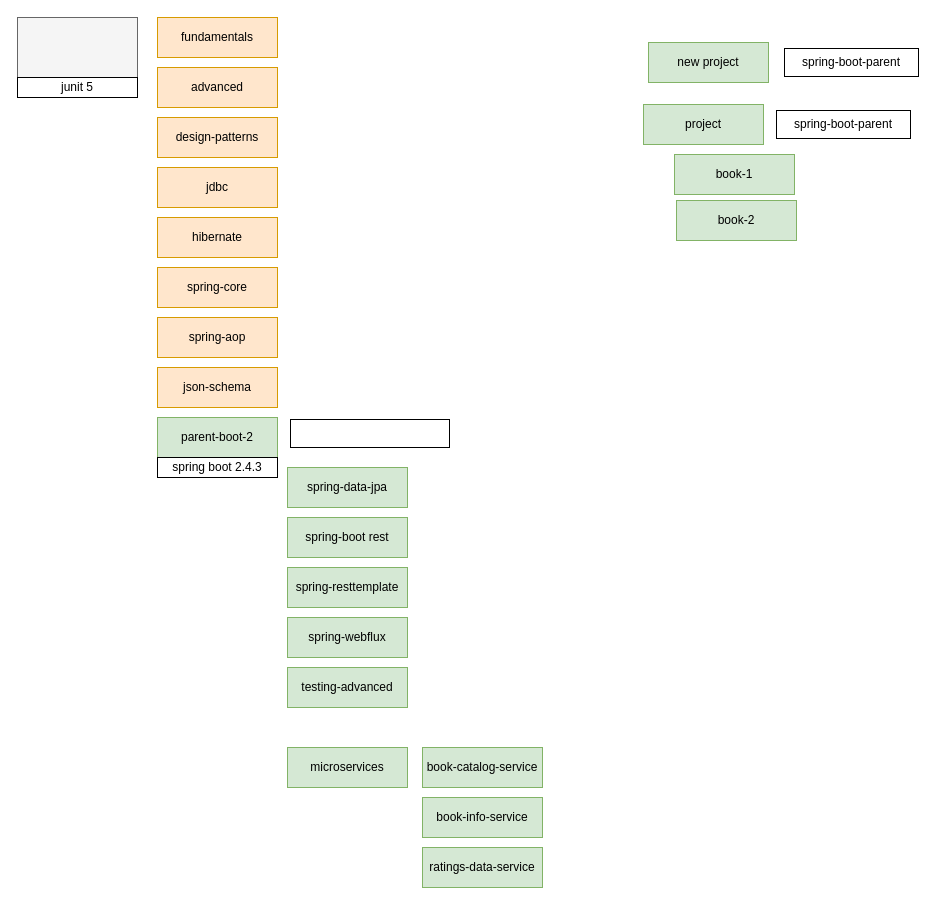
Some shapes in this 936 by 905 pixel diagram are drawn without their labels. Each missing label, with the centre of its shape:
sda-course: the point at 77,47
spring-boot-dependencies: the point at 370,433
